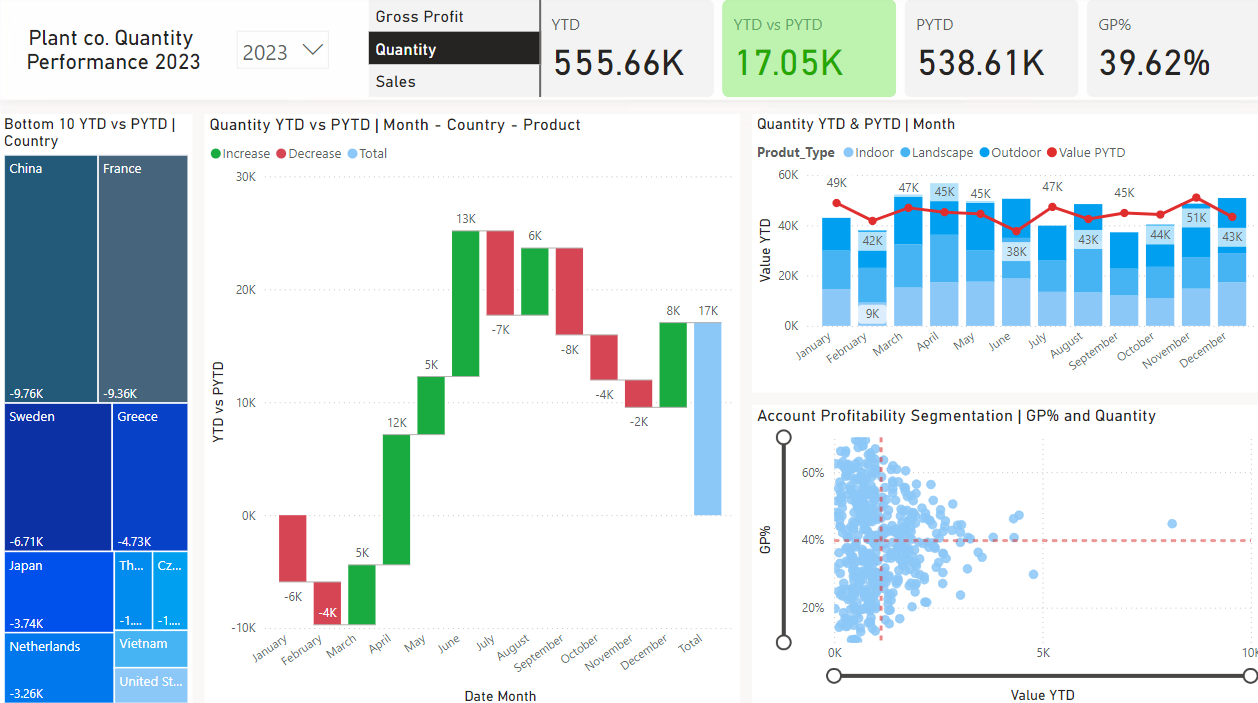

The page's visual inventory and layout, read from the dashboard file:
{"tool":"powerbi","page":{"name":"Performance Report","canvas":[1280,720],"ordinal":0},"visuals":[{"type":"cardVisual","fields":{"Data":["_Measures.S_YTD","_Measures.YTD vs PYTD","_Measures.S_PYTD","_Measures.GP%"]},"box":[540.8,0,738,109.8],"z":0},{"type":"advancedSlicerVisual","fields":{"Values":["Slc_Values.Values"]},"box":[367.4,0,184.5,109.8],"z":1000},{"type":"slicer","fields":{"Values":["Dim_Date.Date.Variation.Date Hierarchy.Year"]},"box":[230.6,27,112.9,82.7],"z":2000},{"type":"treemap","title":"Bottom 10 YTD vs PYTD | Country","fields":{"Group":["Dim_Account.country"],"Values":["_Measures.YTD vs PYTD"]},"box":[0,120.9,195.6,599.7],"z":3000},{"type":"waterfallChart","fields":{"Y":["_Measures.YTD vs PYTD"],"Category":["Dim_Date.Date.Variation.Date Hierarchy.Month","Dim_Account.country","Dim_Product.Produt_Type","Dim_Product.Product_Name"]},"box":[206.8,120.9,540.8,599.7],"z":4000},{"type":"lineStackedColumnComboChart","fields":{"Y":["_Measures.S_YTD"],"Y2":["_Measures.S_PYTD"],"Category":["Dim_Date.Date.Variation.Date Hierarchy.Quarter","Dim_Date.Date.Variation.Date Hierarchy.Month"],"Series":["Dim_Product.Produt_Type"]},"box":[760.3,120.9,518.5,281.5],"z":5000},{"type":"scatterChart","fields":{"Y":["_Measures.GP%"],"X":["_Measures.S_YTD"],"Category":["Dim_Account.Account"]},"box":[760.3,415.1,518.5,305.4],"z":5001},{"type":"card","fields":{"Values":["_Measures._Report title"]},"box":[0,0,230.6,109.8],"z":5002}]}

Visuals, with their boxes in screenshot pixels (x1, y1, x2, y2), scaled from the page's 1280x720 canvas onto the 1258x703 screenshot:
cardVisual - _Measures.S_YTD x _Measures.YTD vs PYTD: <region>532, 0, 1257, 107</region>
advancedSlicerVisual - Slc_Values.Values: <region>361, 0, 542, 107</region>
slicer - Dim_Date.Date.Variation.Date Hierarchy.Year: <region>227, 26, 338, 107</region>
"Bottom 10 YTD vs PYTD | Country" treemap: <region>0, 118, 192, 702</region>
waterfallChart - _Measures.YTD vs PYTD x Dim_Date.Date.Variation.Date Hierarchy.Month: <region>203, 118, 735, 702</region>
lineStackedColumnComboChart - _Measures.S_YTD x _Measures.S_PYTD: <region>747, 118, 1257, 393</region>
scatterChart - _Measures.GP% x _Measures.S_YTD: <region>747, 405, 1257, 702</region>
card - _Measures._Report title: <region>0, 0, 227, 107</region>
